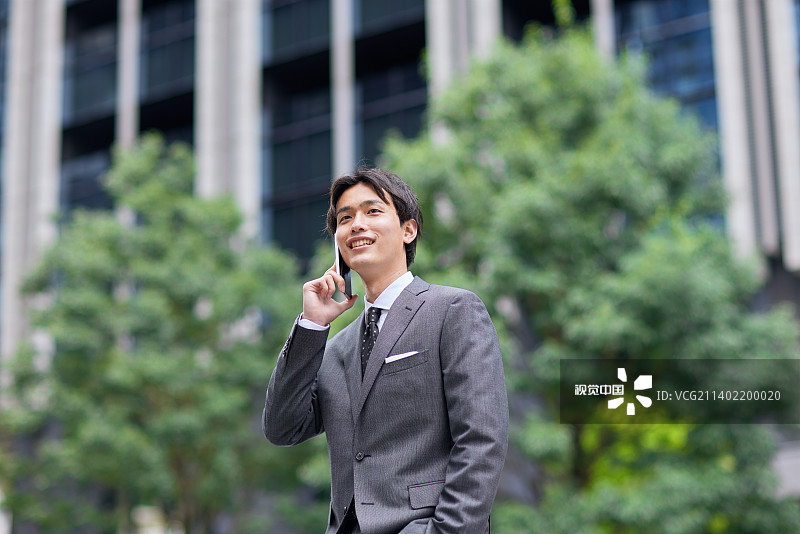calling: (280, 229, 367, 335)
